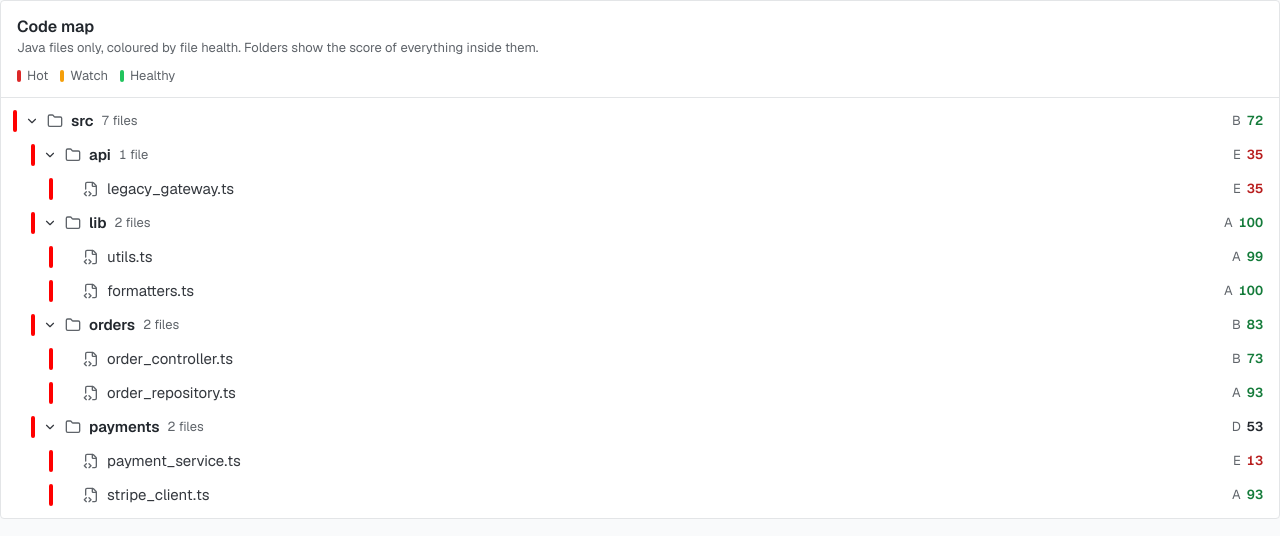
Test case: collapsing a folder hides its children
Check: the text "payment_service.ts" is shown, box [107,450,241,472]
Click the button "payments 2 files D 53" at (124, 426), box [7,410,1273,444]
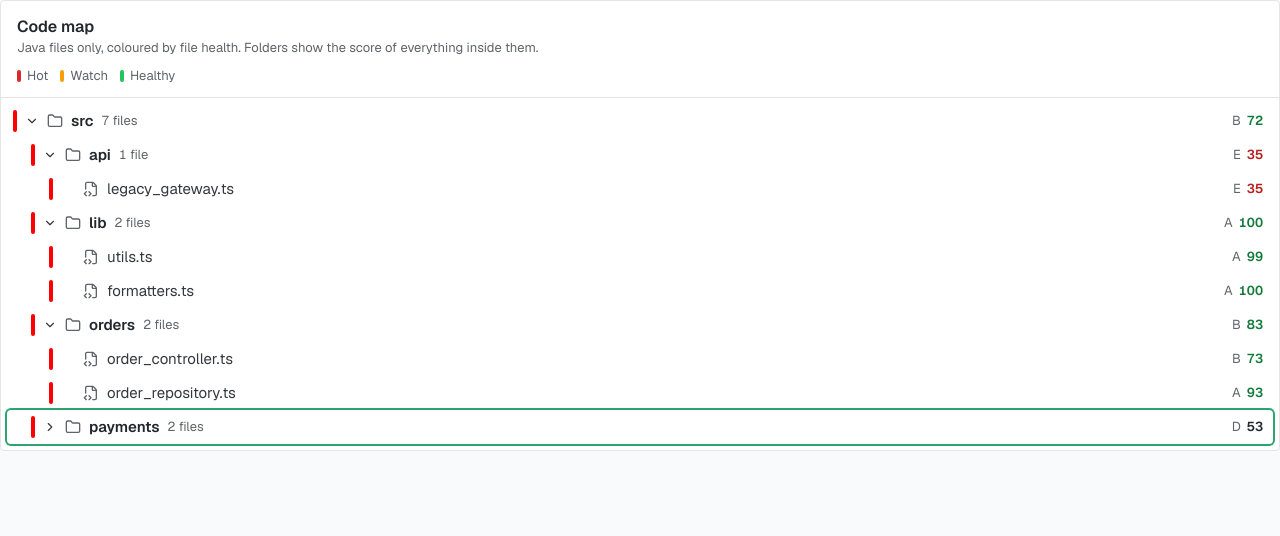
Check: the button "payment_service.ts" is gone
